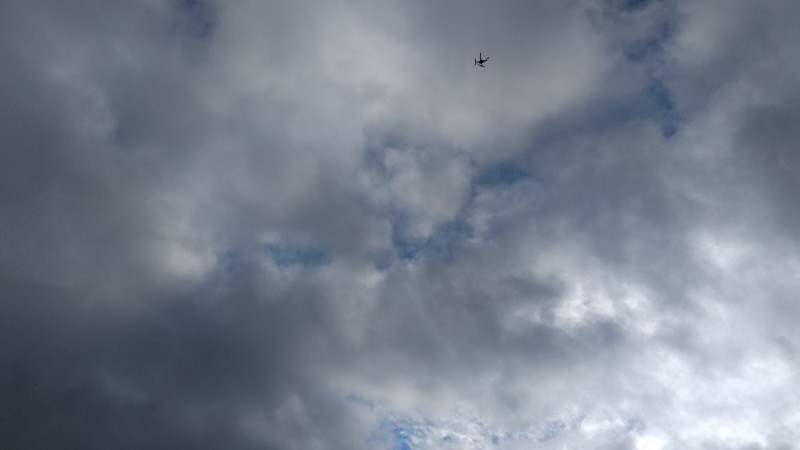drone: (473, 52, 490, 69)
